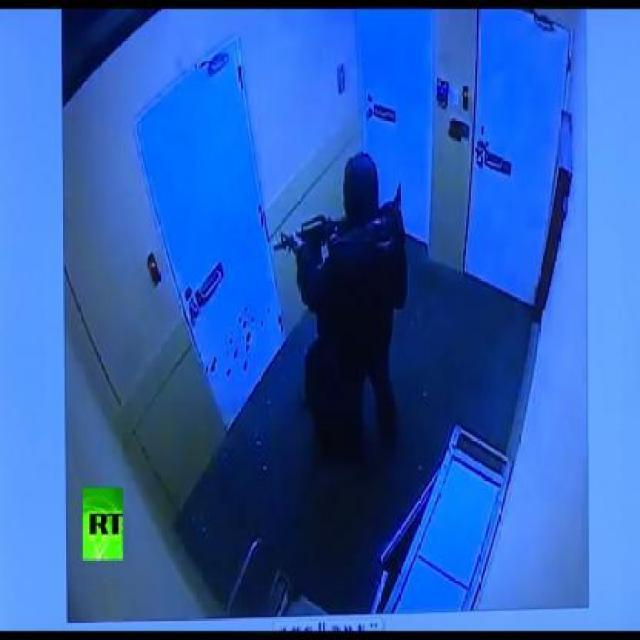weapon: (269, 210, 346, 262)
